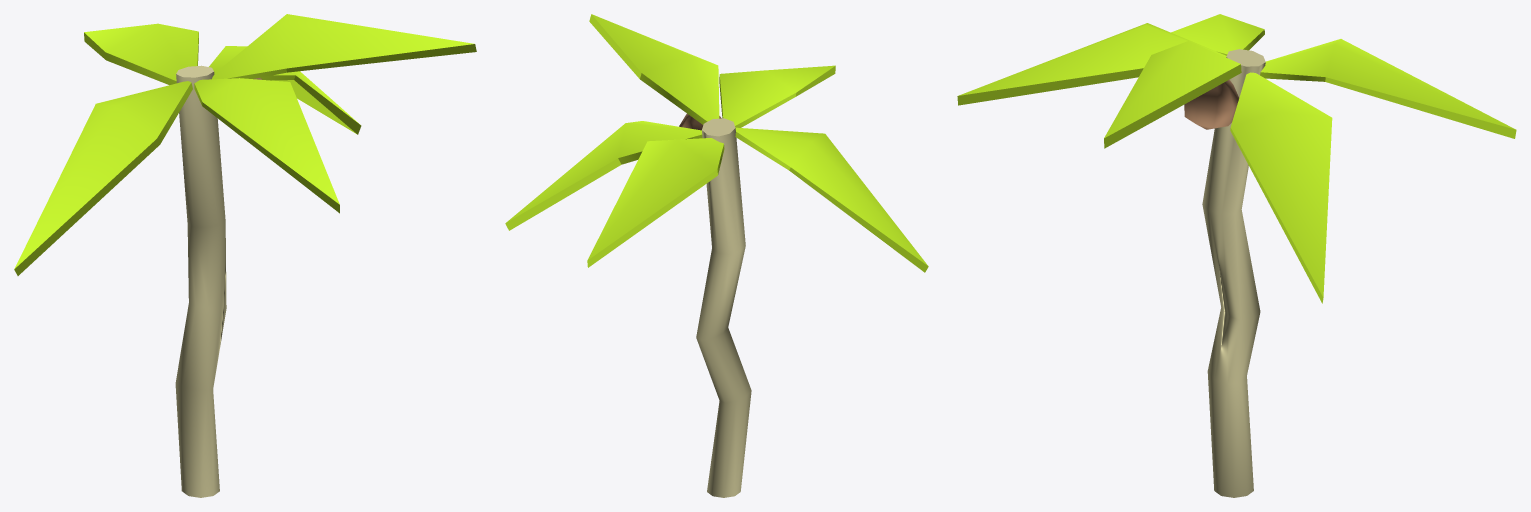
File: palm.obj
3 views of the same model, side by side, from view 1: azimuth 30°, elevation 25°; view 2: azimuth 150°, elevation 25°; view 3: azimuth 270°, elevation 25° (orthographic). The views are drawn at different scales.
Visible parts, largest first — view 1: Cylinder006; view 2: Cylinder006; view 3: Cylinder006.
Part boxes in pixels (left/top/right/bottom): Cylinder006: left=14, top=14, right=476, bottom=497; Cylinder006: left=505, top=14, right=928, bottom=497; Cylinder006: left=957, top=14, right=1516, bottom=497.
Size of the model in its own units: 3.84 by 3.99 by 4.21.
Materials: 1 (1 with a texture image).
